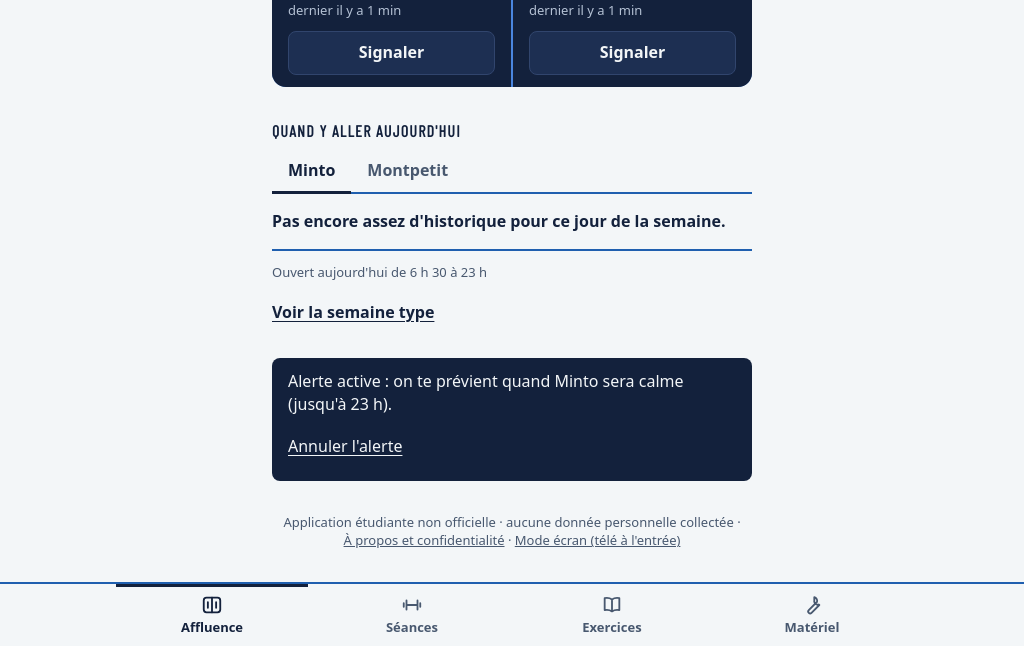
Test: alerte « salle calme » › s'annule avec le jeton de l'appareil
(page scrolled)
Click the button "Annuler l'alerte": (349, 447) [288,425,410,469]
(page scrolled)
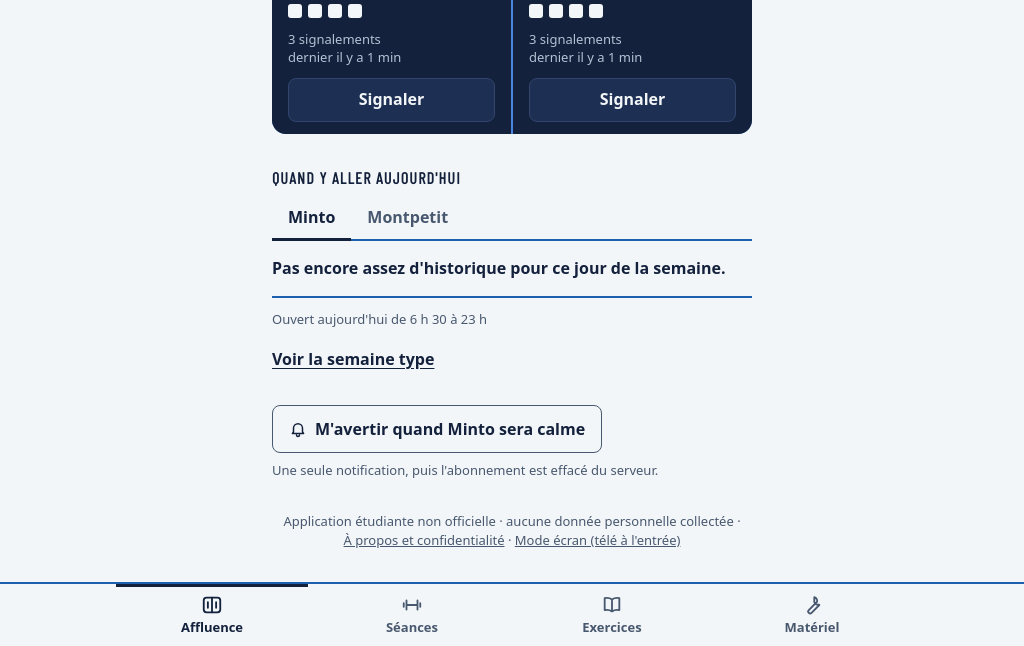
Now the button "M'avertir quand Minto sera calme" is shown, box [272,405,602,453]
